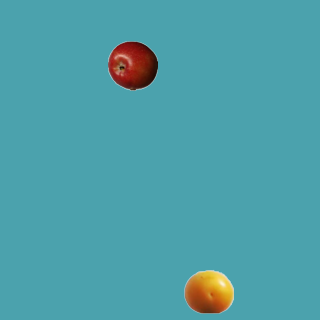Apple Braeburn: (107, 40, 157, 90)
Cherry Wax Yellow: (183, 266, 233, 316)
